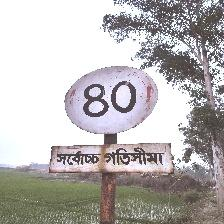Speed-limit: (50, 64, 180, 176)
